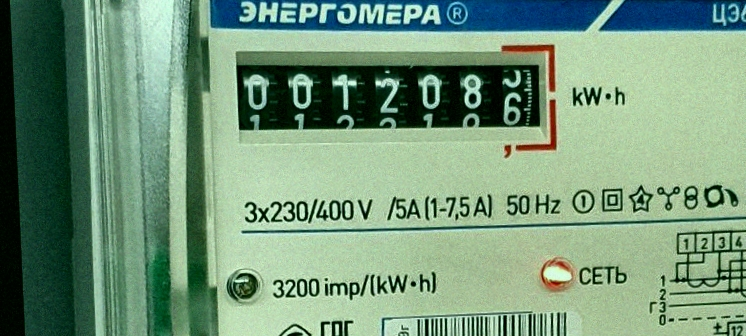0: (286, 68, 316, 111), (243, 68, 269, 111), (417, 70, 442, 110)
1: (331, 69, 355, 111)
2: (374, 74, 401, 114)
6: (497, 89, 523, 126)
8: (459, 70, 483, 111)
screen: (225, 23, 570, 177)
